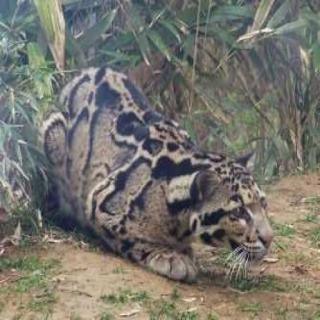Leopard: (18, 48, 284, 288)
